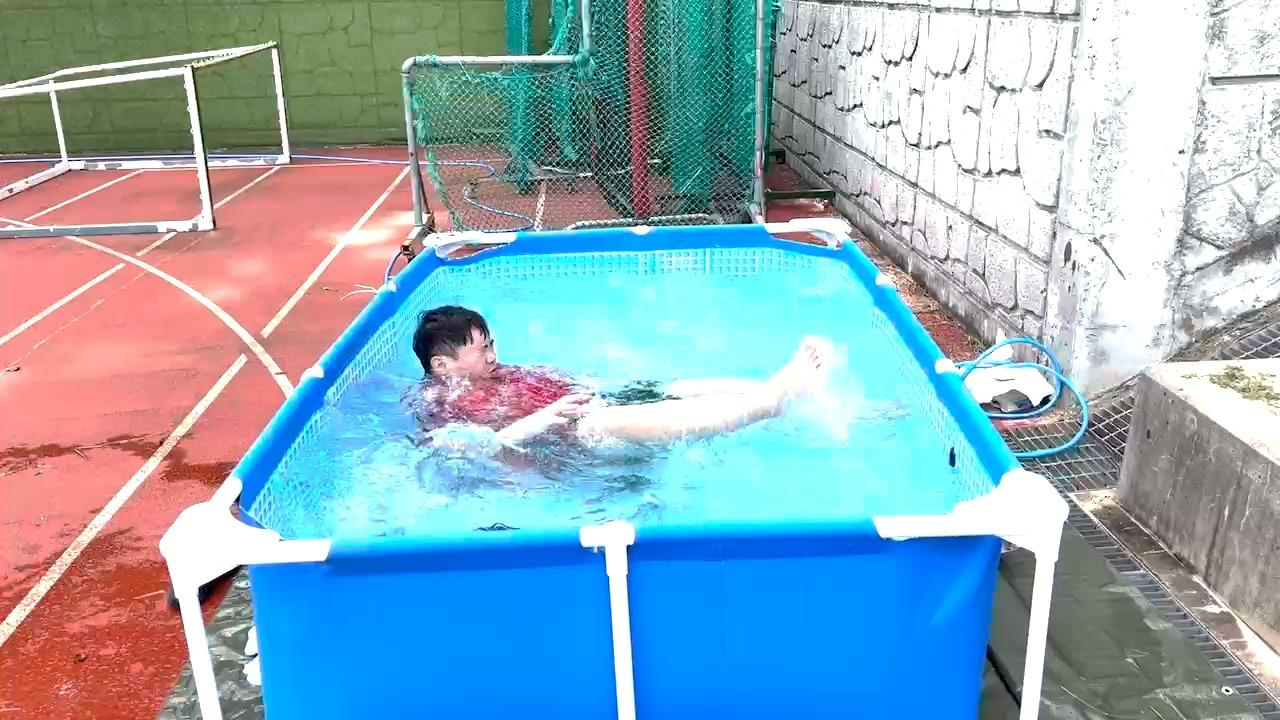Drowning: (410, 306, 847, 478)
